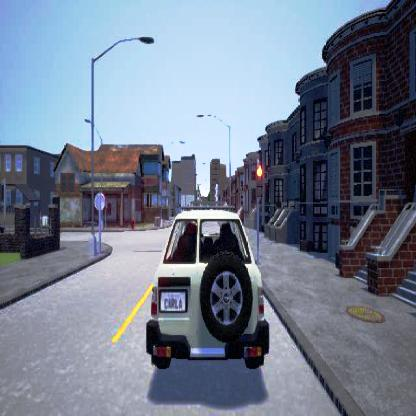vehicle: (146, 200, 268, 368)
